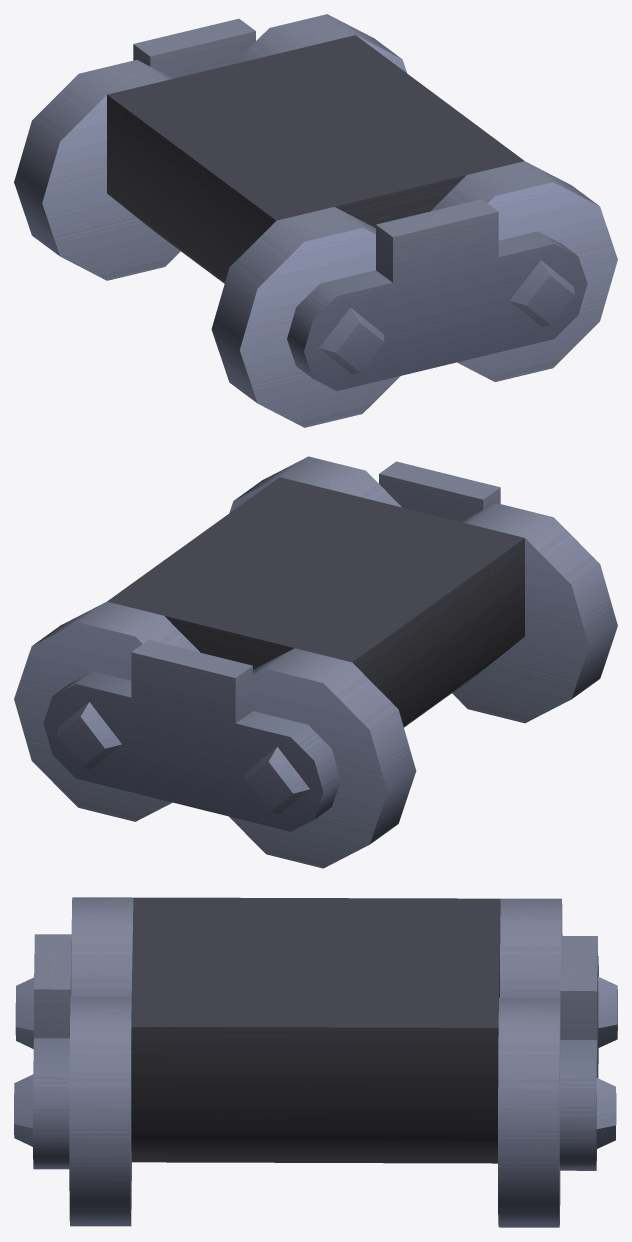
File: wheels-front.008_lev2.glb
The picture shows the model from 3 angles, top to bottom: view 1: azimuth 30°, elevation 25°; view 2: azimuth 150°, elevation 25°; view 3: azimuth 270°, elevation 25°; orthographic projection. The views are drawn at different scales.
Parts seen in each view (by area): view 1: wheels-front.008_lev2; view 2: wheels-front.008_lev2; view 3: wheels-front.008_lev2.
Part boxes in pixels (box(x1,y1,x2,y2)): wheels-front.008_lev2: box(14, 14, 617, 427); wheels-front.008_lev2: box(14, 456, 617, 868); wheels-front.008_lev2: box(14, 897, 617, 1227).
Size of the model in its own units: 0.767 by 0.3595 by 0.9865.
Materials: 1 (1 with a texture image).
